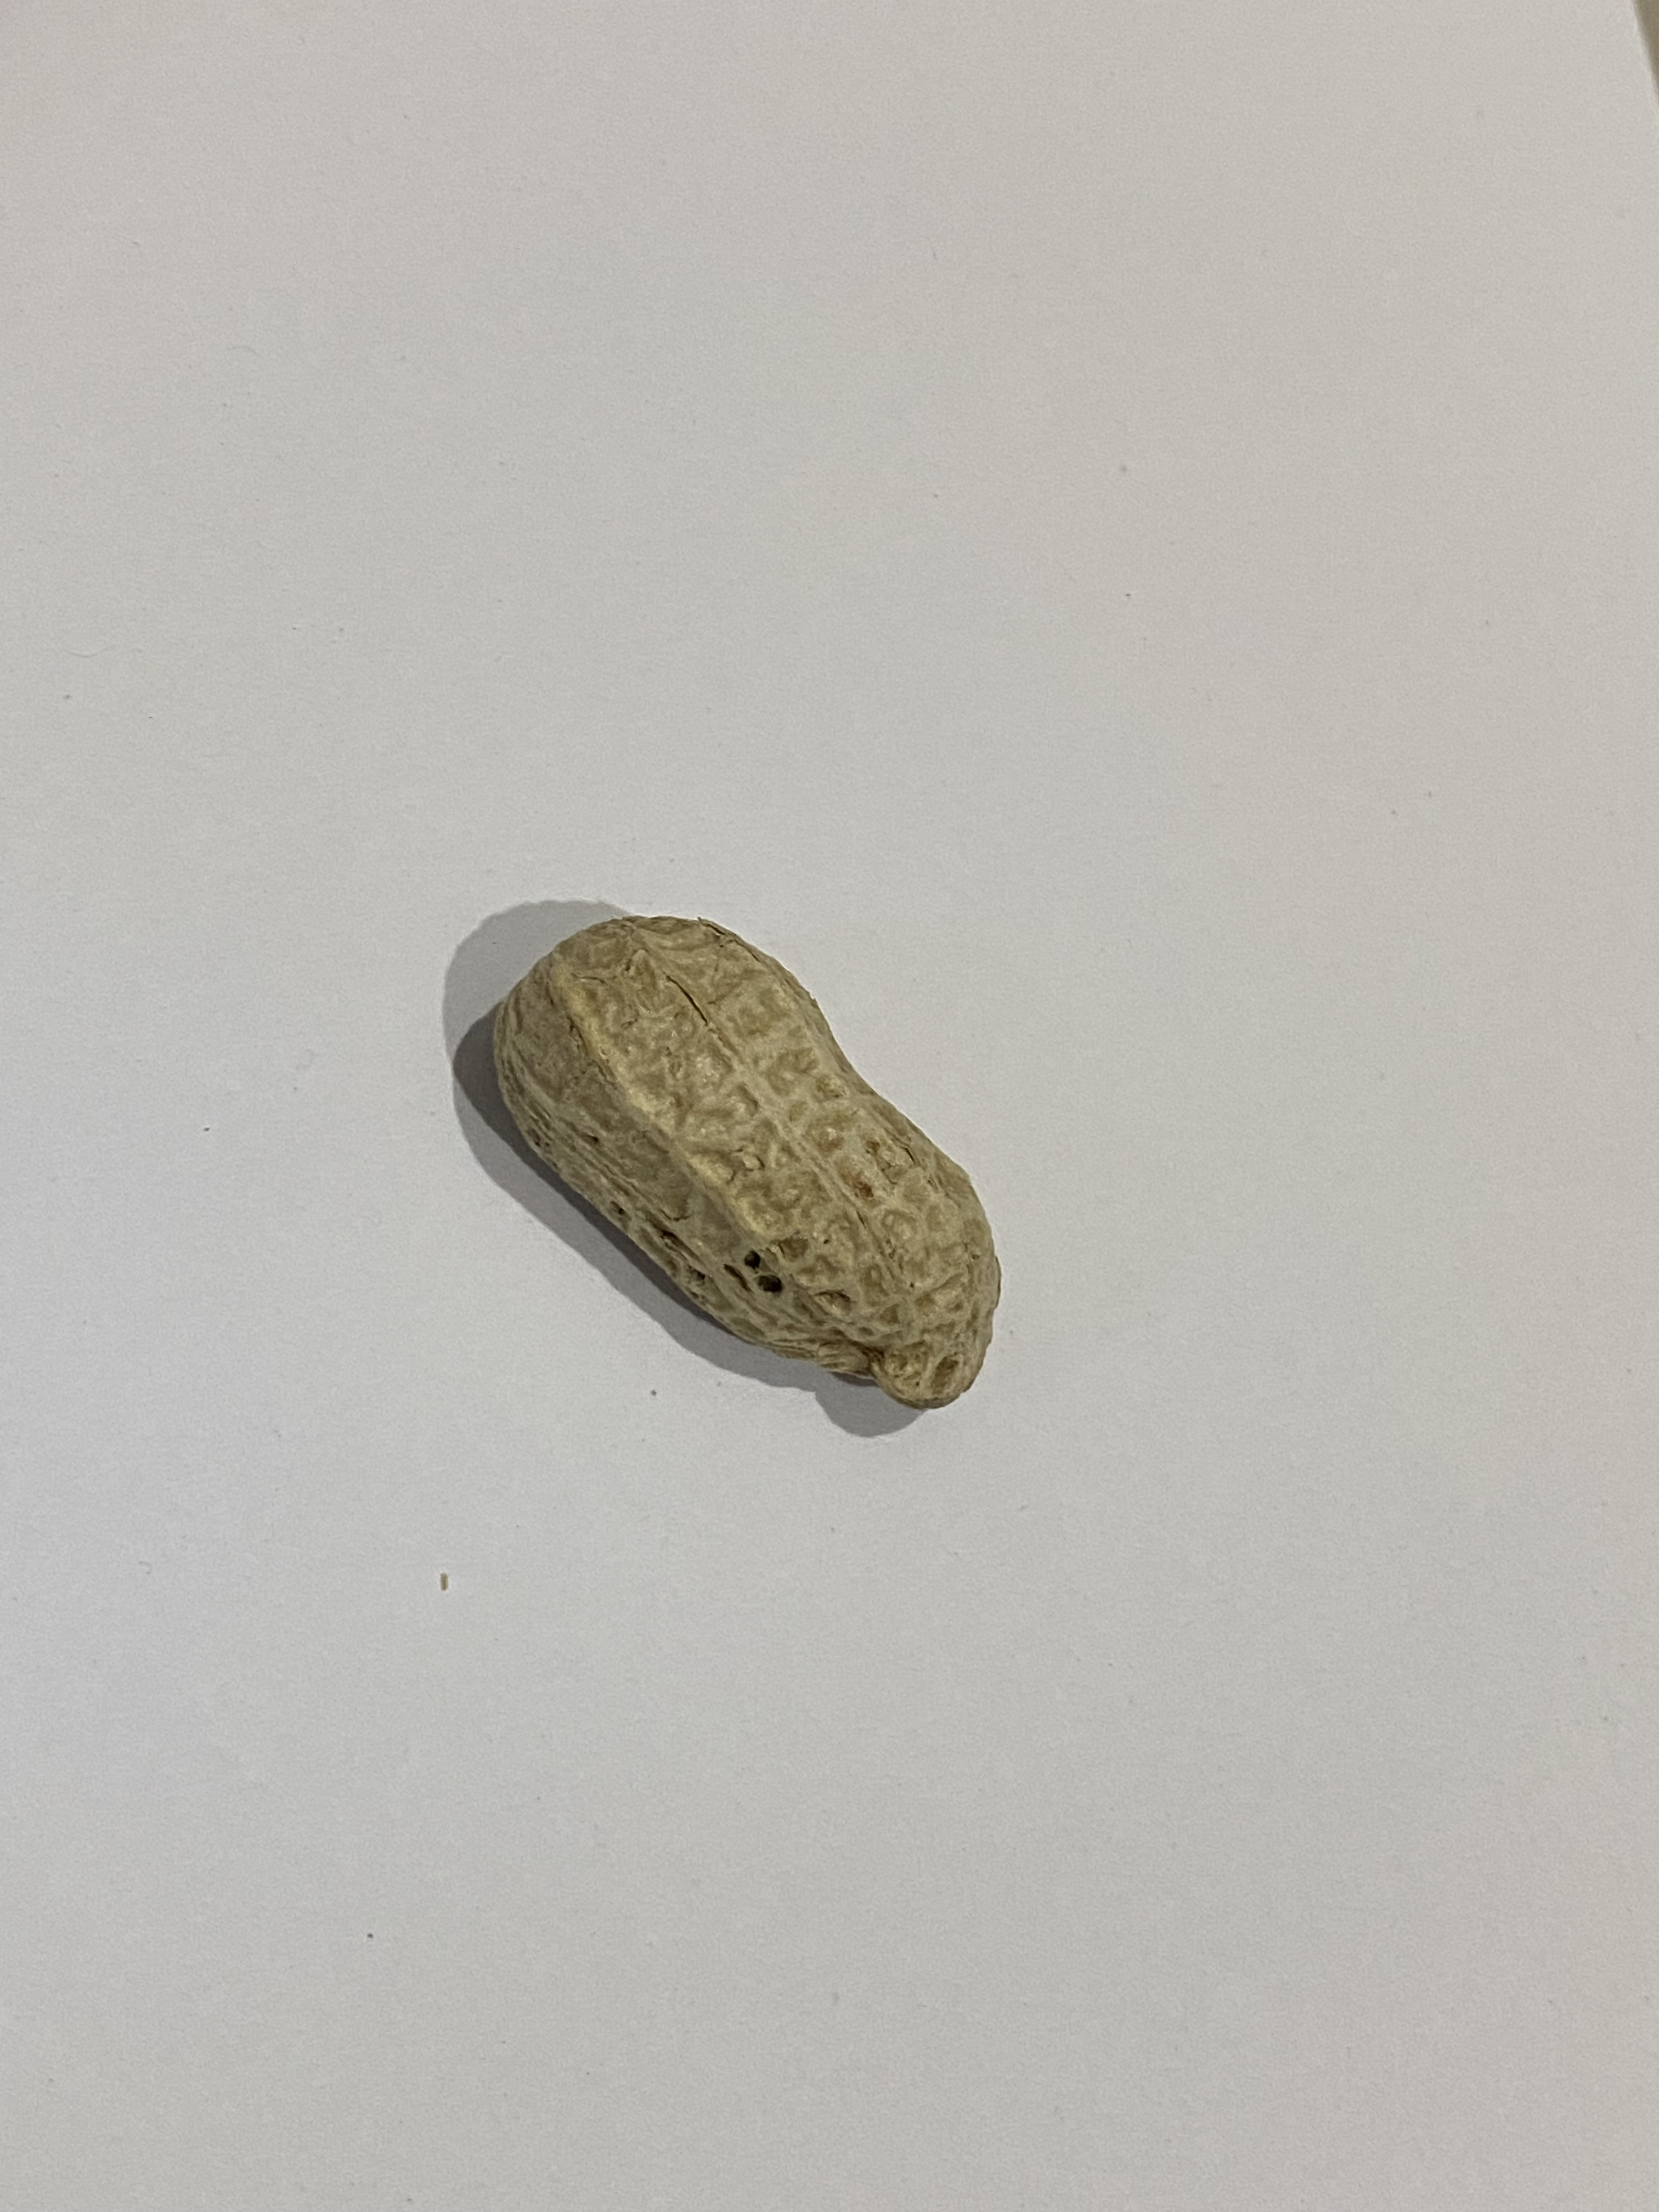kacang2: (488, 873, 1012, 1421)
